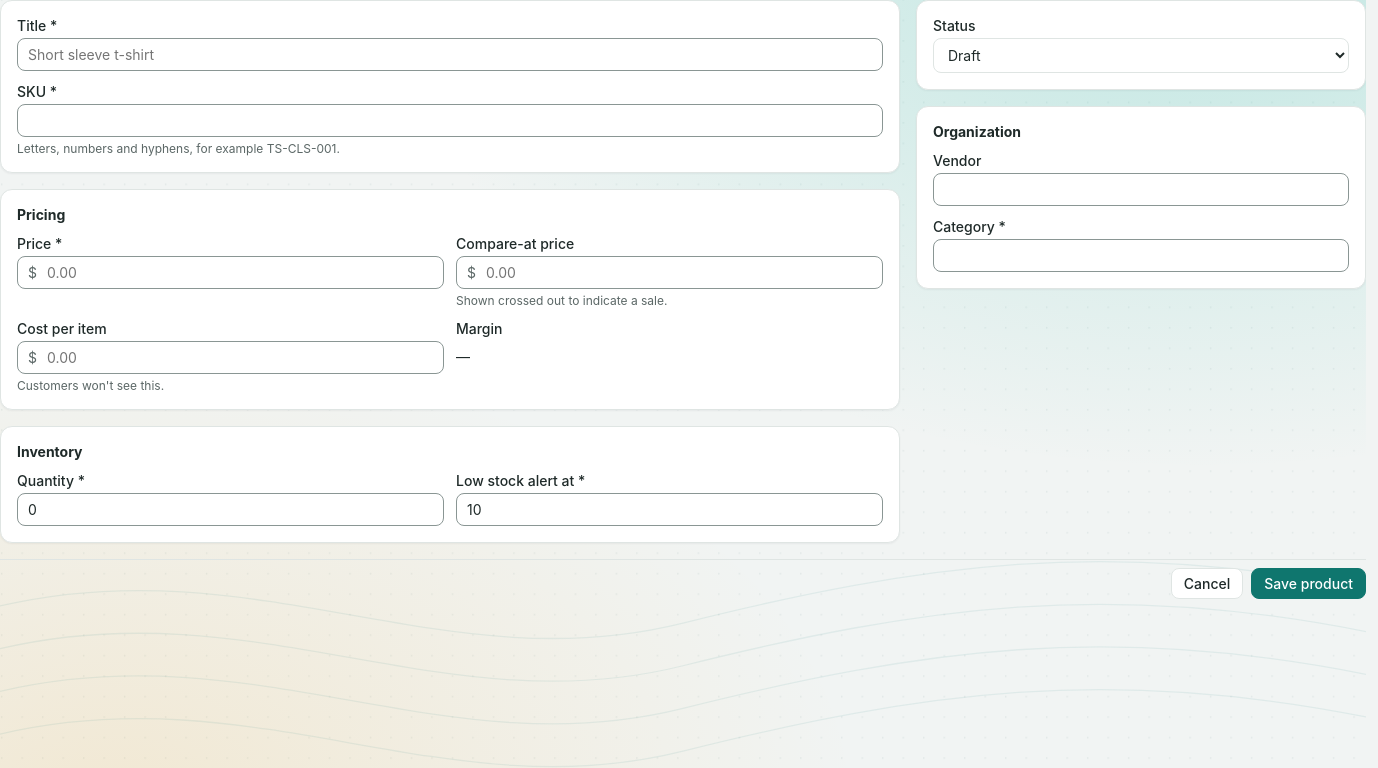
Test: ProductForm › shows a field error after leaving the field
Click the field labelled "Title *" at (450, 54), box [18,39,882,70]
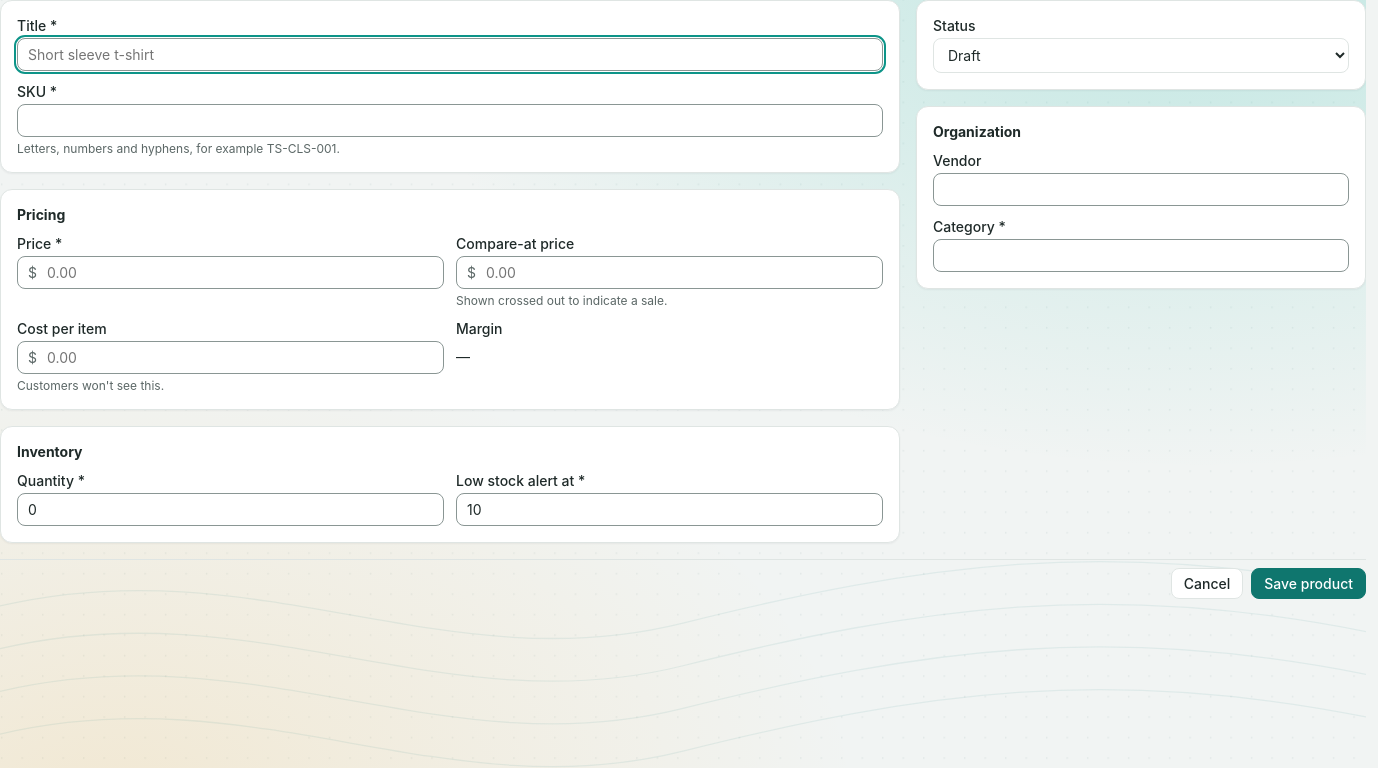
Press Tab
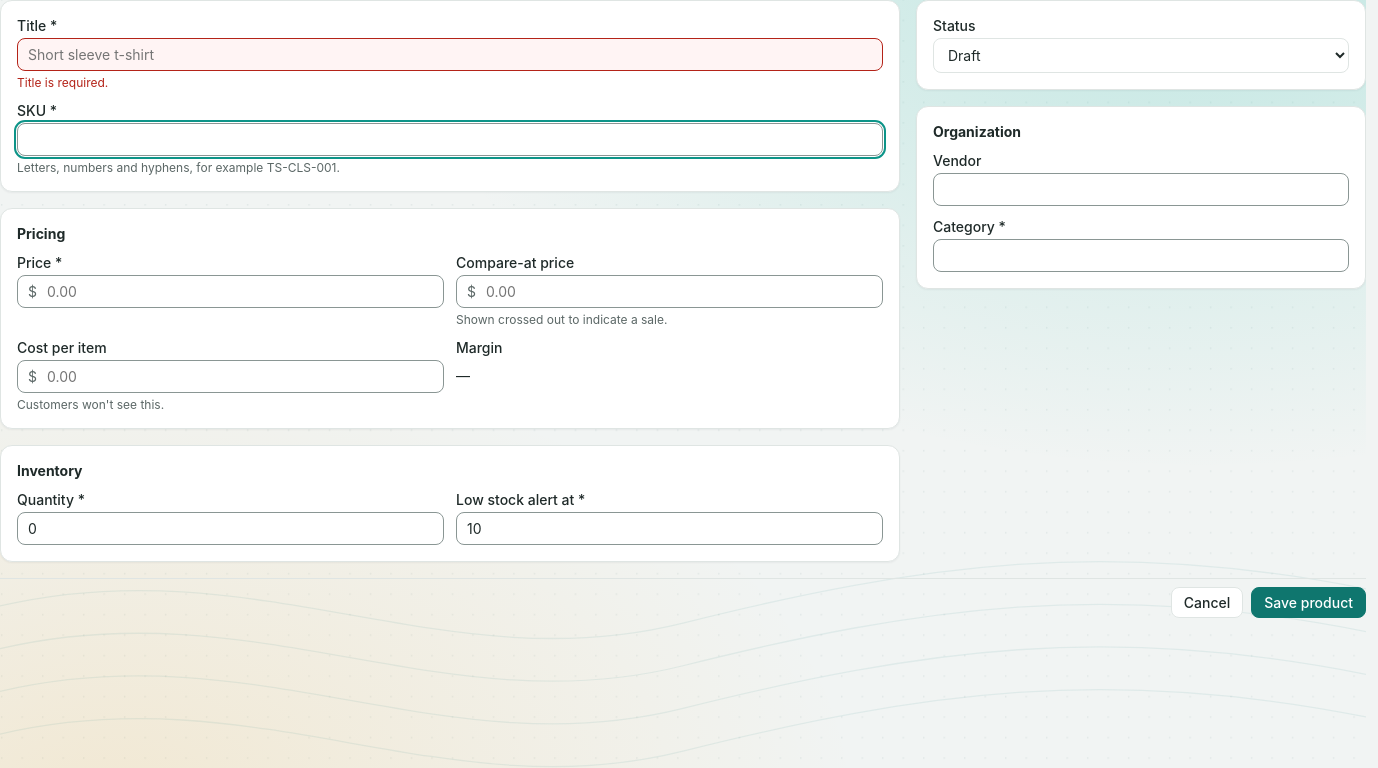
Now the text "Title is required." is shown, box [17,75,108,90]
